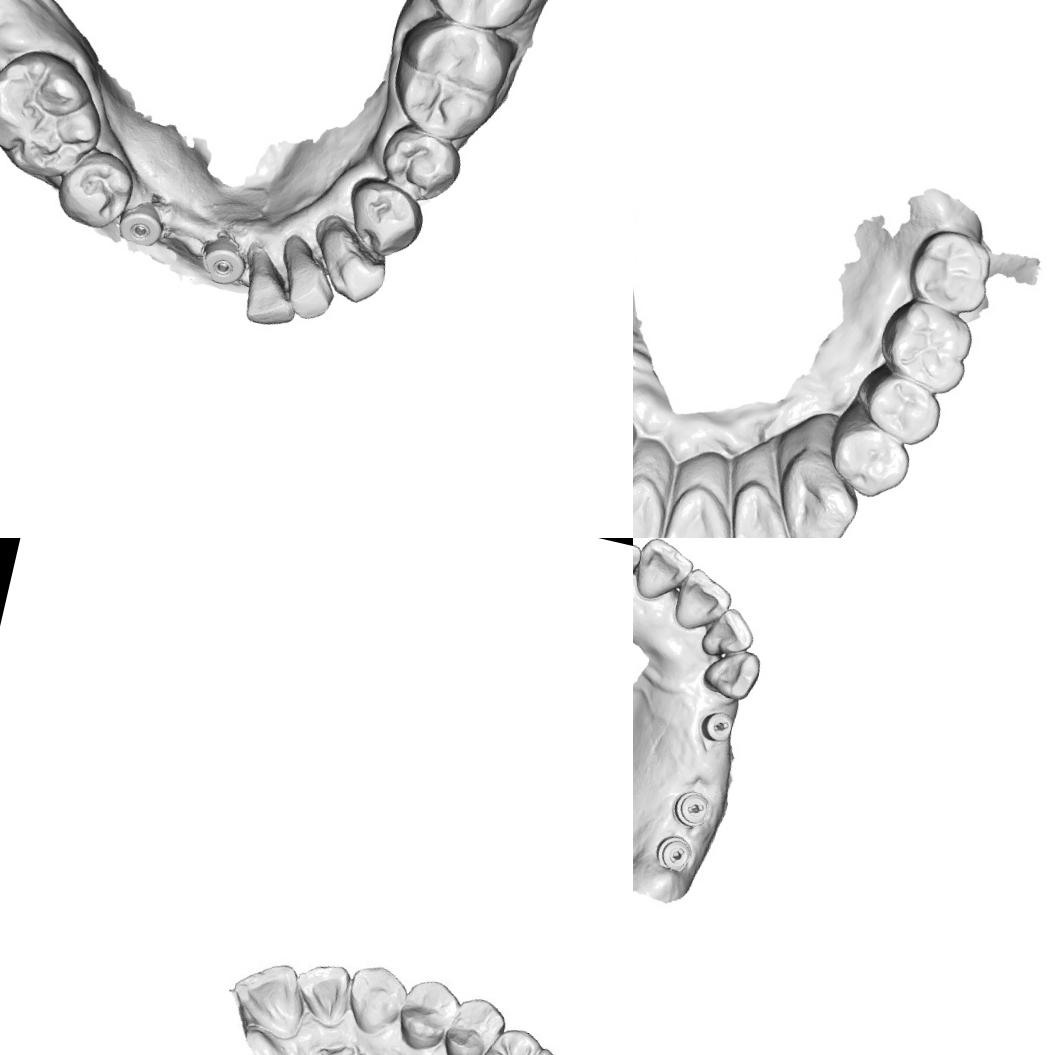canine: (764, 444, 867, 538), (307, 220, 397, 309), (341, 962, 413, 1040), (698, 642, 766, 705)
implant: (115, 202, 171, 255), (201, 239, 248, 289)
implant_minus: (651, 831, 697, 878), (668, 785, 714, 831), (696, 706, 738, 747)
incisor: (224, 952, 312, 1046), (652, 476, 753, 538), (718, 477, 807, 538), (287, 955, 354, 1034), (275, 250, 344, 326), (670, 563, 738, 640), (238, 262, 306, 333), (633, 538, 699, 608), (697, 601, 761, 665), (633, 468, 676, 538)
molar: (380, 10, 516, 150), (0, 38, 118, 191), (874, 293, 978, 396), (900, 221, 1000, 319), (417, 0, 556, 39), (467, 1021, 572, 1055)
premolar: (336, 172, 432, 264), (821, 414, 916, 506), (372, 120, 468, 208), (55, 146, 140, 235), (858, 367, 948, 451), (392, 974, 462, 1055), (435, 991, 510, 1055)
